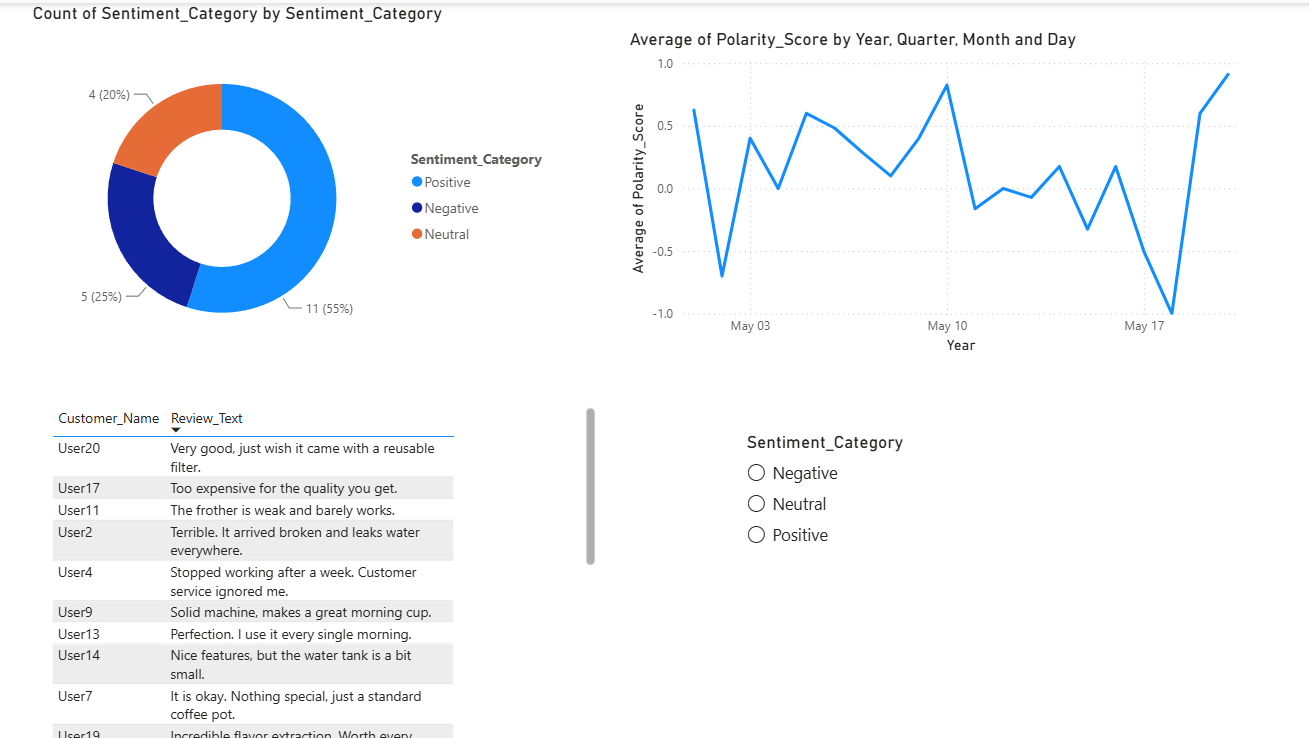

This screenshot's page, from the dashboard's own definition file:
{"tool":"powerbi","page":{"name":"Page 1","canvas":[1280,720],"ordinal":0},"visuals":[{"type":"donutChart","fields":{"Category":["analyzed_reviews.Sentiment_Category"],"Y":["CountNonNull(analyzed_reviews.Sentiment_Category)"]},"box":[34,0,517.8,359.1],"z":0},{"type":"lineChart","fields":{"Category":["analyzed_reviews.Review_Date.Variation.Date Hierarchy.Year","analyzed_reviews.Review_Date.Variation.Date Hierarchy.Quarter","analyzed_reviews.Review_Date.Variation.Date Hierarchy.Month","analyzed_reviews.Review_Date.Variation.Date Hierarchy.Day"],"Y":["Avg(analyzed_reviews.Polarity_Score)"]},"box":[612.3,24.6,610.4,319.4],"z":1},{"type":"tableEx","fields":{"Values":["analyzed_reviews.Customer_Name","analyzed_reviews.Review_Text"]},"box":[52.9,387.4,536.7,332.6],"z":2},{"type":"listSlicer","fields":{"Values":["analyzed_reviews.Sentiment_Category"]},"box":[725.7,415.8,192.8,275.9],"z":3}]}

Visuals, with their boxes in screenshot pixels (x1, y1, x2, y2), scaled from the page's 1280x720 canvas onto the 1309x738 screenshot:
donutChart - analyzed_reviews.Sentiment_Category x CountNonNull(analyzed_reviews.Sentiment_Category): 35,0,564,368
lineChart - analyzed_reviews.Review_Date.Variation.Date Hierarchy.Year x analyzed_reviews.Review_Date.Variation.Date Hierarchy.Quarter: 626,25,1250,353
tableEx - analyzed_reviews.Customer_Name x analyzed_reviews.Review_Text: 54,397,603,737
listSlicer - analyzed_reviews.Sentiment_Category: 742,426,939,709
